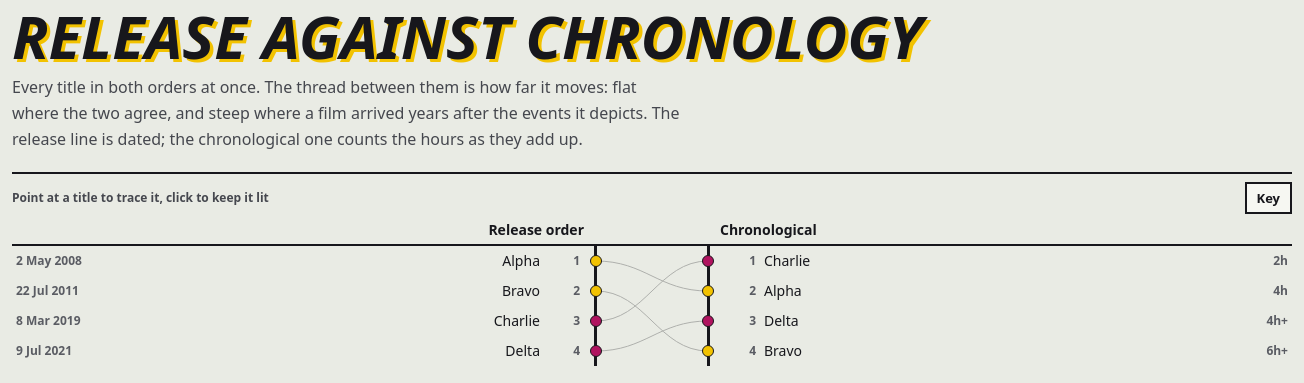
Test case: ComparePage › reads out both positions and which way the title moved
The width and height of the screenshot is (1304, 383).
What coordinates should you click on to do the following:
click the button "8 Mar 2019 Charlie 3"
I would click on:
 (48, 321)
Its box is [12,306,596,336].
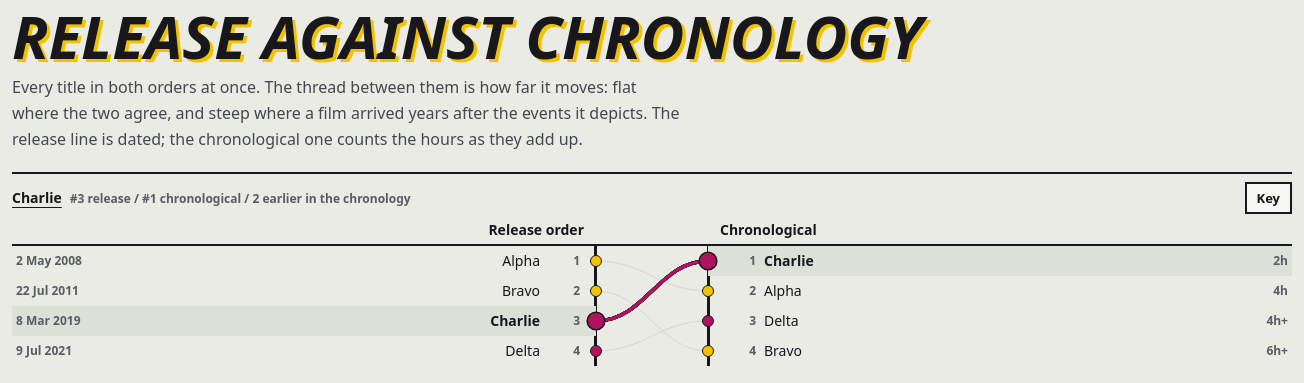
Expected: the text "#3 release / #1 chronological / 2 earlier in the chronology" is shown, [70,191,411,207]
What coordinates should you click on to do the following:
click the button "22 Jul 2011 Bravo 2"
I would click on:
 (47, 291)
Its box is [12,276,596,306].
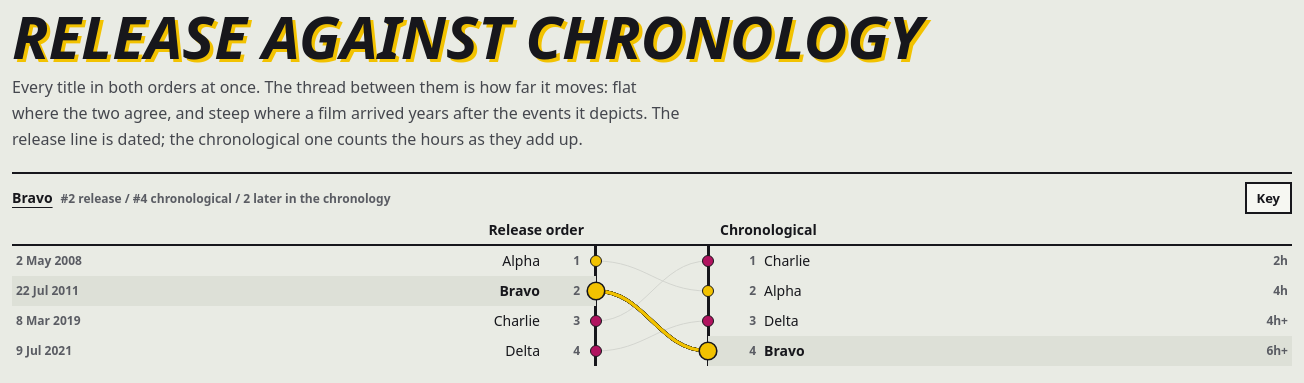
Expected: the text "#2 release / #4 chronological / 2 later in the chronology" is shown, [61,191,390,207]
